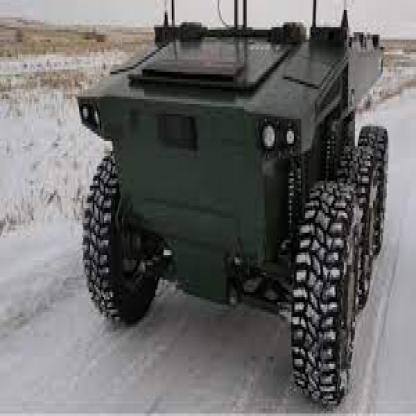UGV: (74, 22, 388, 409)
